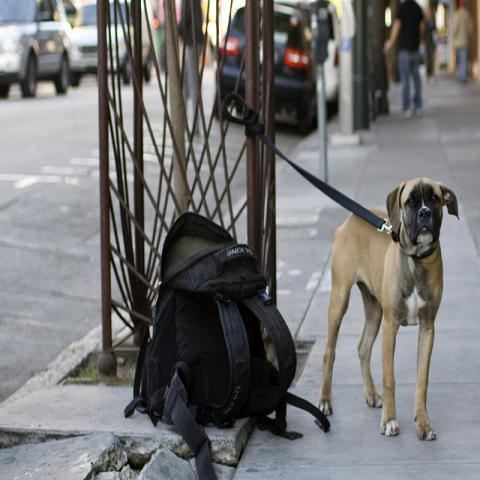car: (216, 3, 314, 134), (68, 0, 162, 88), (2, 4, 77, 98), (322, 0, 341, 114)
